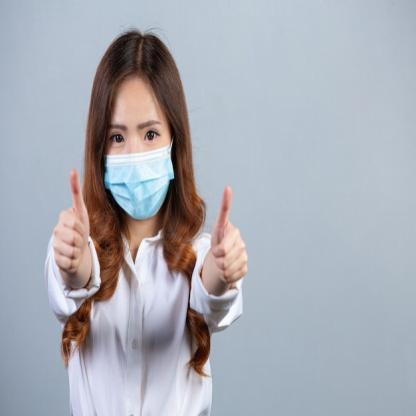thumb_up: (51, 167, 92, 276), (209, 184, 248, 288)
